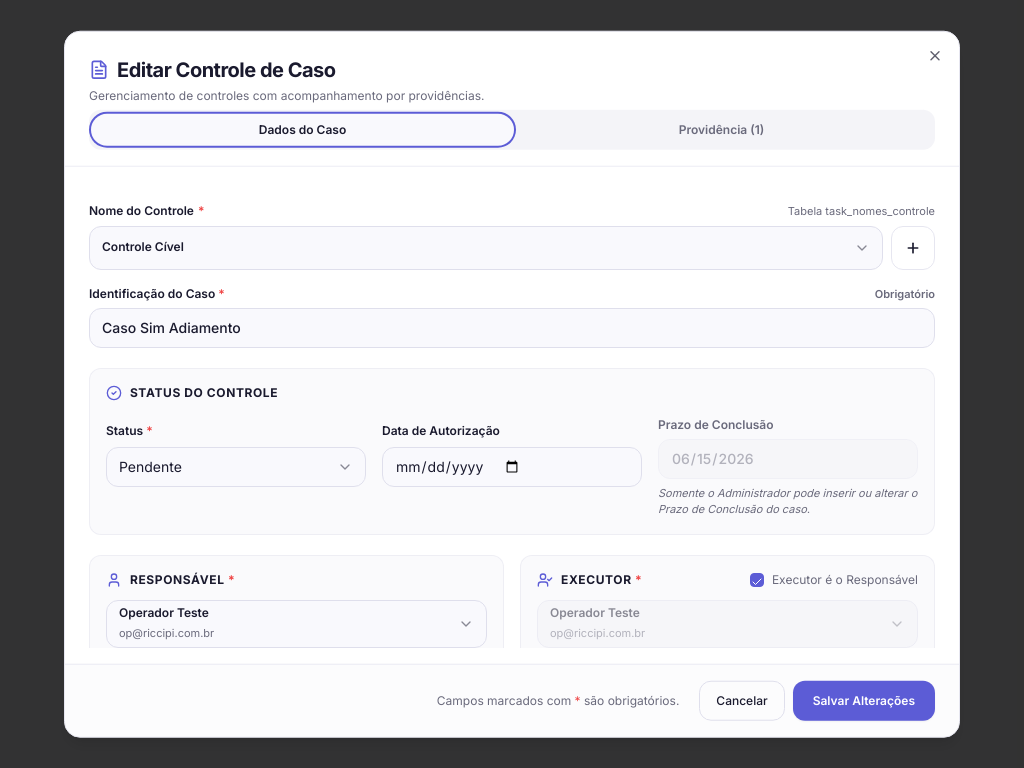
Test: ControleModal - Fluxo de Solicitação de Adiamento › escolha "Sim" abre janela de solicitação exibindo automaticamente a data pretendida
Expected: the field showing "Caso Sim Adiamento" is shown, [89,307,935,347]
Press the mouse on the tab "Providência (1)" at (722, 130), box [512,116,931,144]
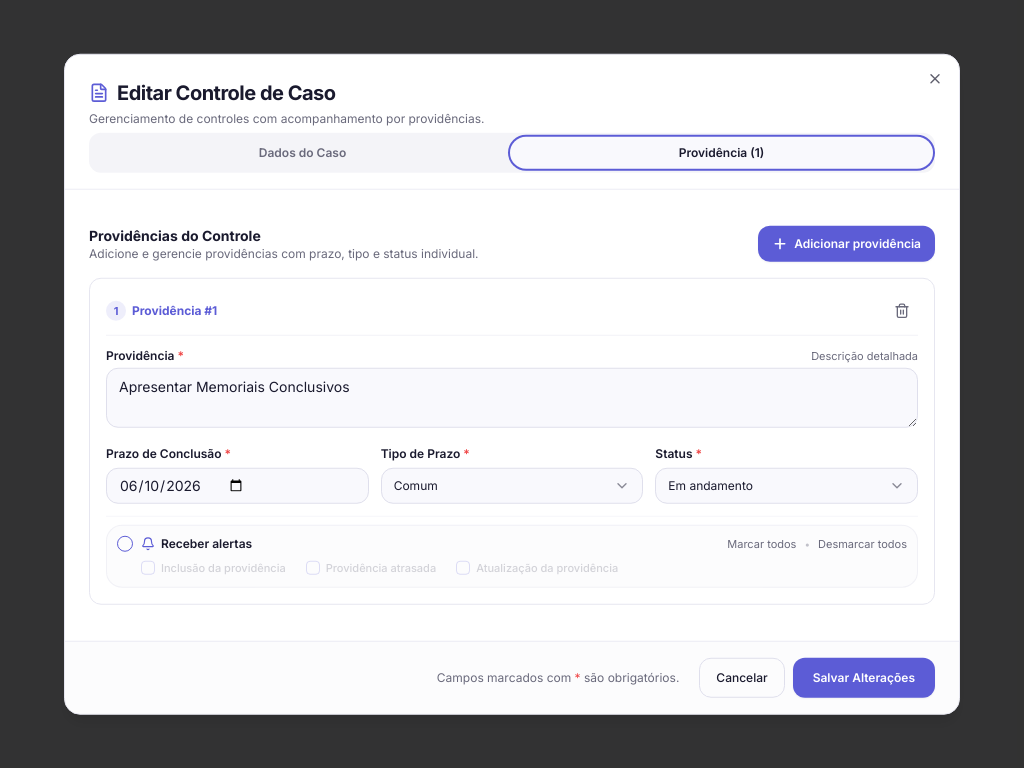
Result: the date field is shown
Type "2026-06-28" into the date field.
click(237, 486); type("2026-06-28")  # box [106,468,369,504]
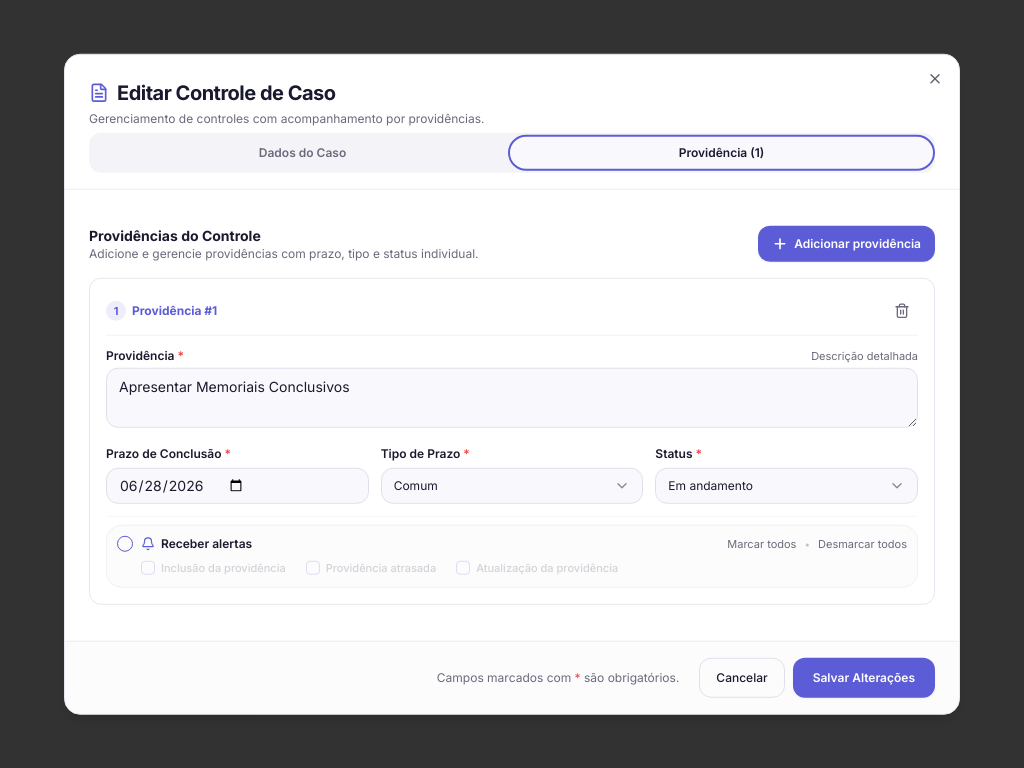
Press the mouse on the tab "Dados do Caso" at (302, 153), box [93,139,512,167]
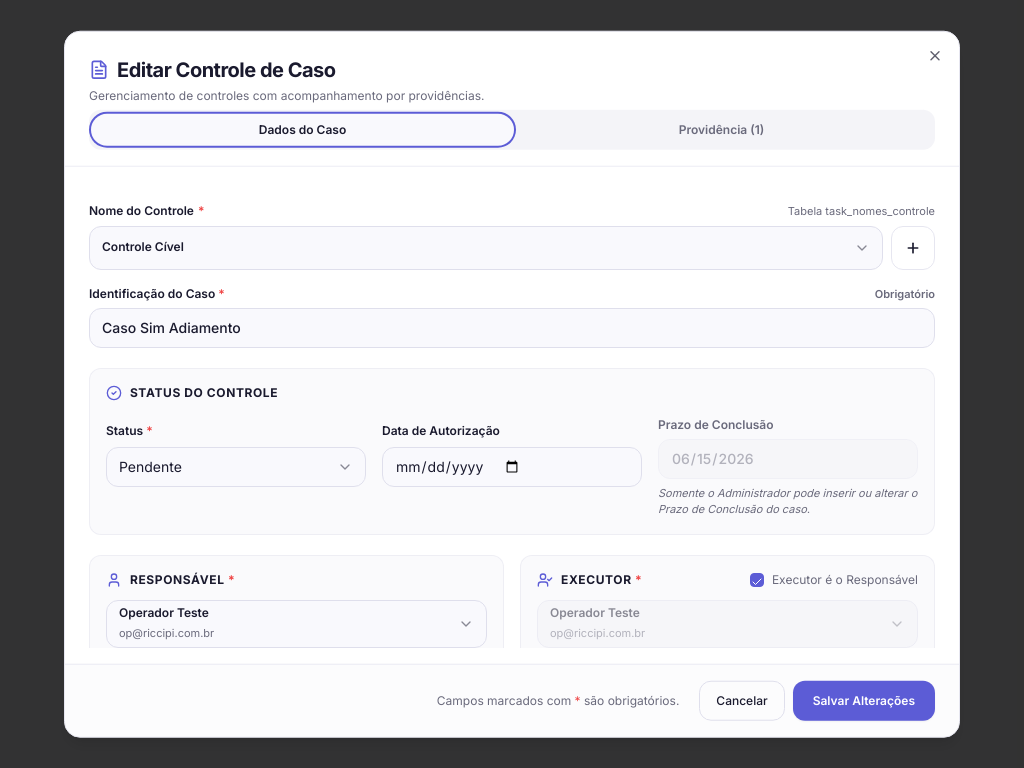
Click the button "Salvar Alterações".
click(864, 700)  # box [793,680,935,720]
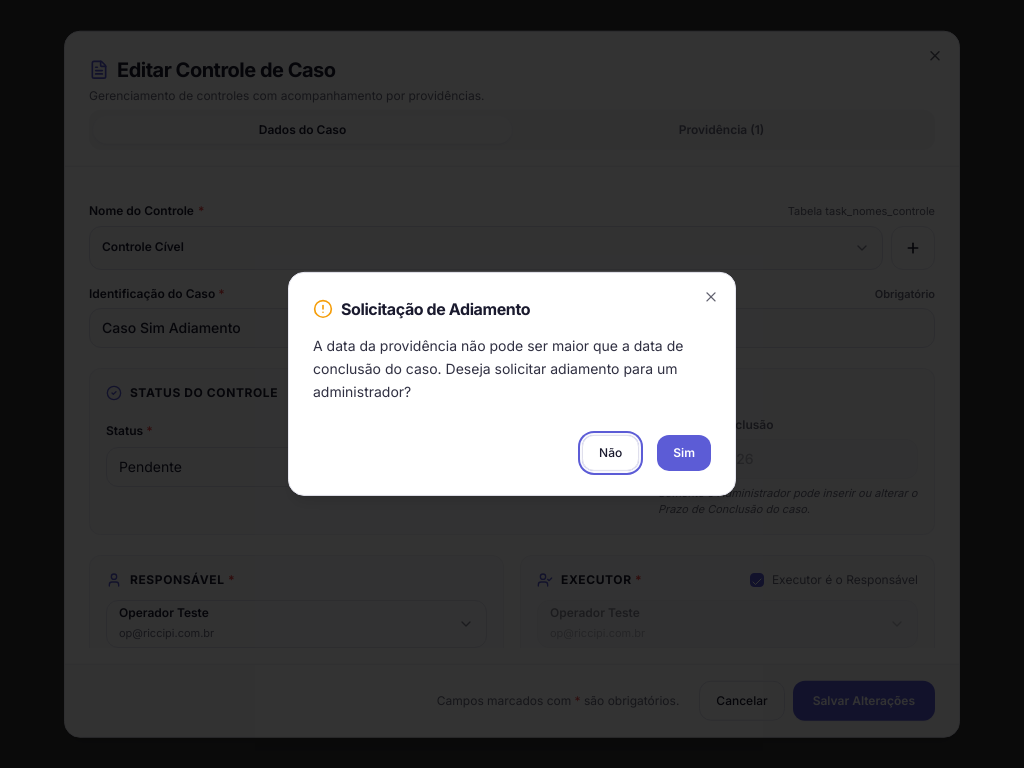
Click the button "Sim".
click(684, 453)  # box [657,435,711,471]
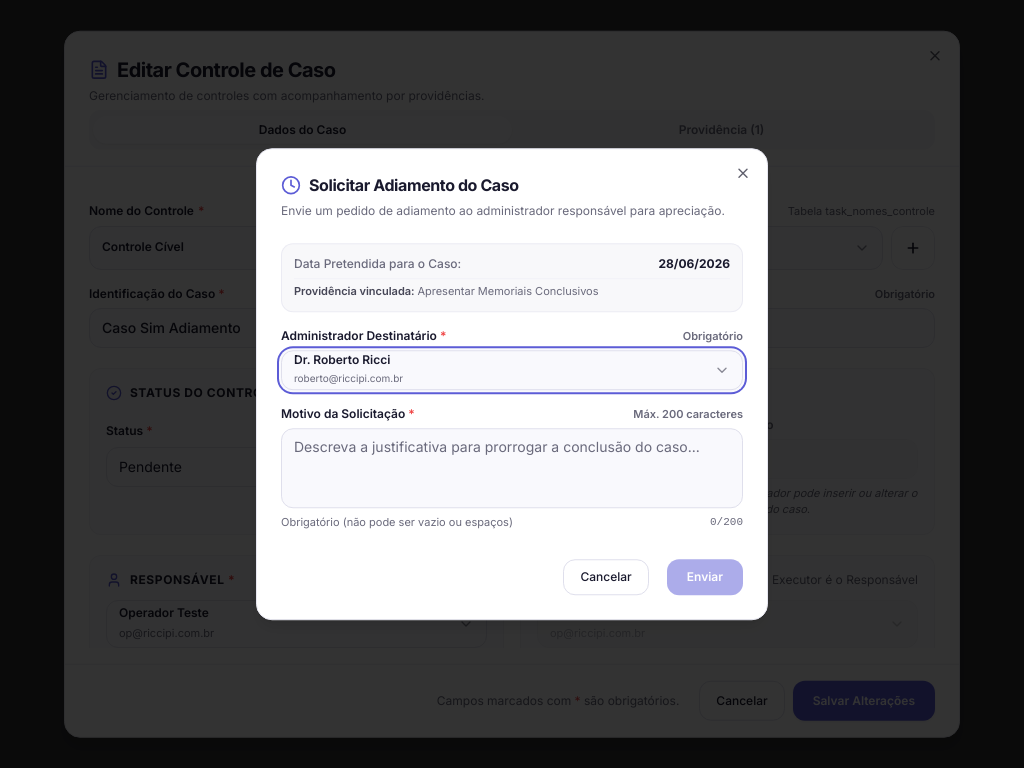
Result: the text "Solicitar Adiamento do Caso" is shown at [309,173,519,197]
Result: the text "28/06/2026" is shown at [658,256,730,272]
Result: the text "Providência vinculada: Apresentar Memoriais Conclusivos" is shown at [294,278,730,299]
